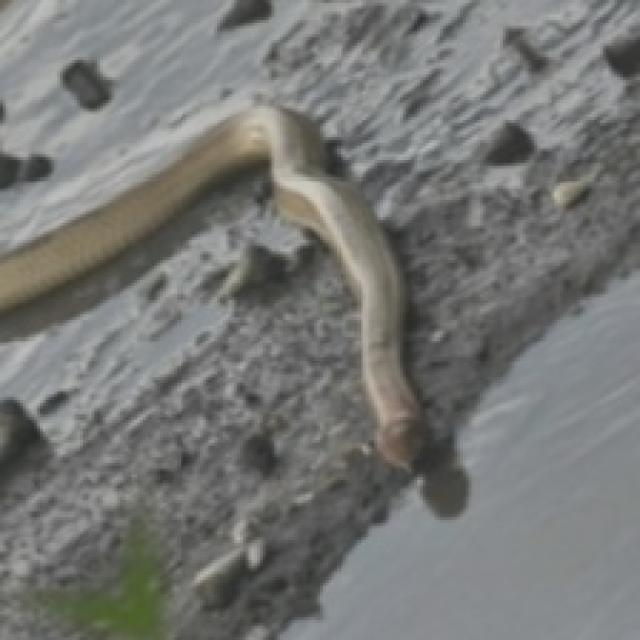king cobra: (0, 106, 423, 466)
